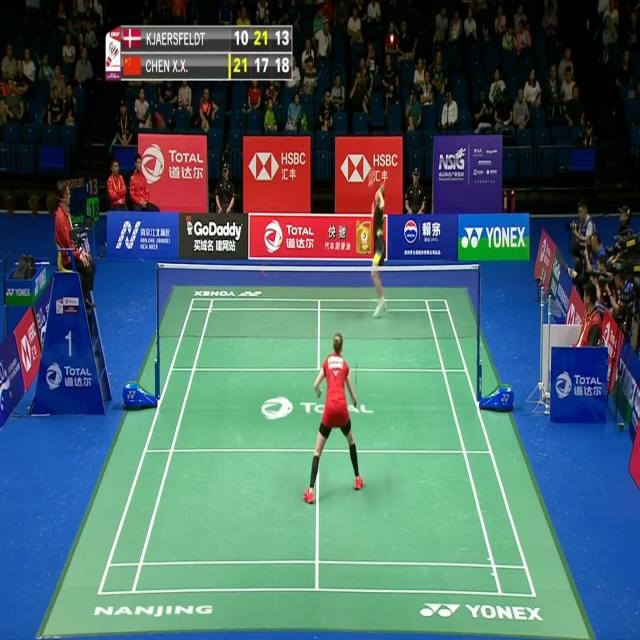Player1: (300, 326, 368, 510)
Player2: (364, 177, 392, 323)
